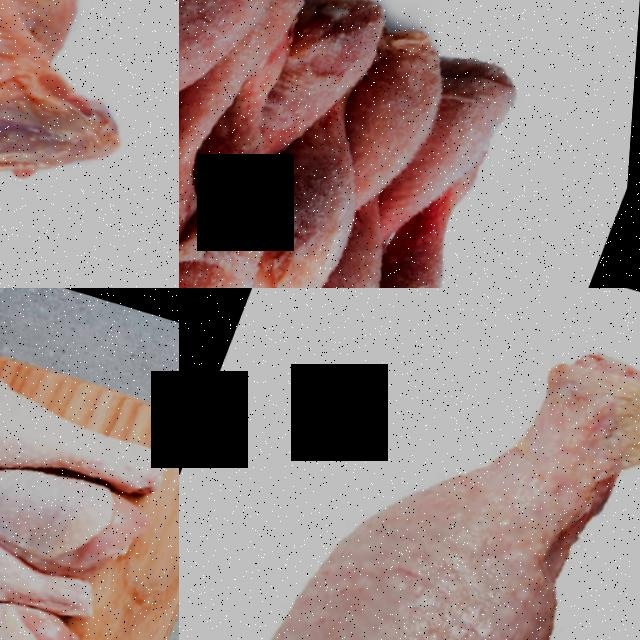chicken thigh: (208, 288, 640, 640), (0, 331, 179, 536), (179, 66, 330, 288), (0, 412, 163, 592), (179, 0, 299, 235), (336, 141, 509, 288), (0, 474, 104, 640)
chicken wing: (0, 0, 179, 288)
